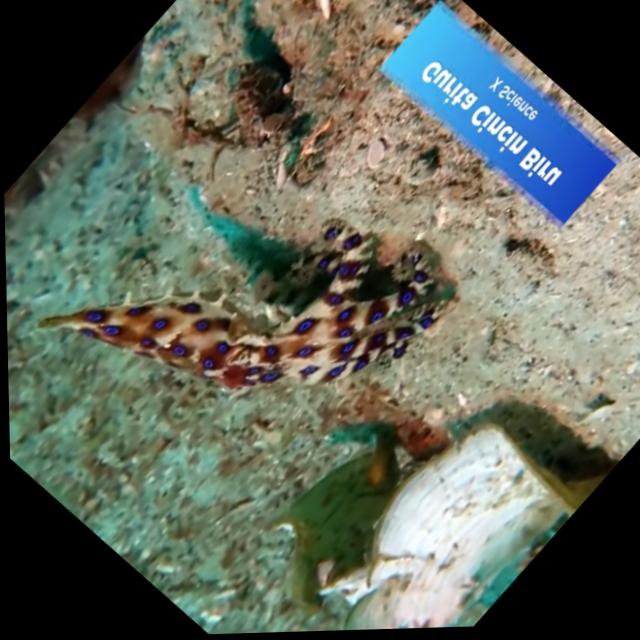blue_ringed_octopus: (28, 83, 479, 537)
